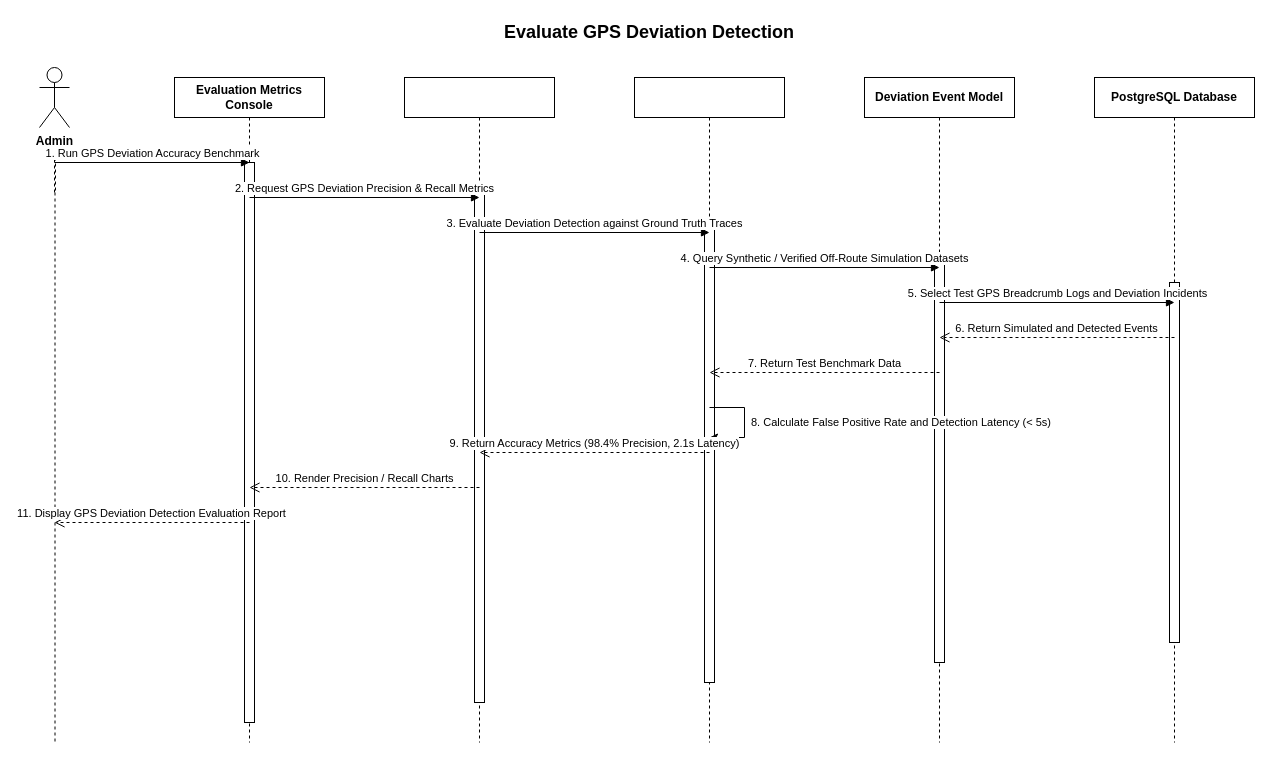
This 1272x760 diagram has some shape labels left out. Here are the shapes that lost their labels. From the top down, the centre of each, then its label:
At (x=479, y=409): "Evaluation Controller".
At (x=709, y=409): "GPS Benchmark Service".
